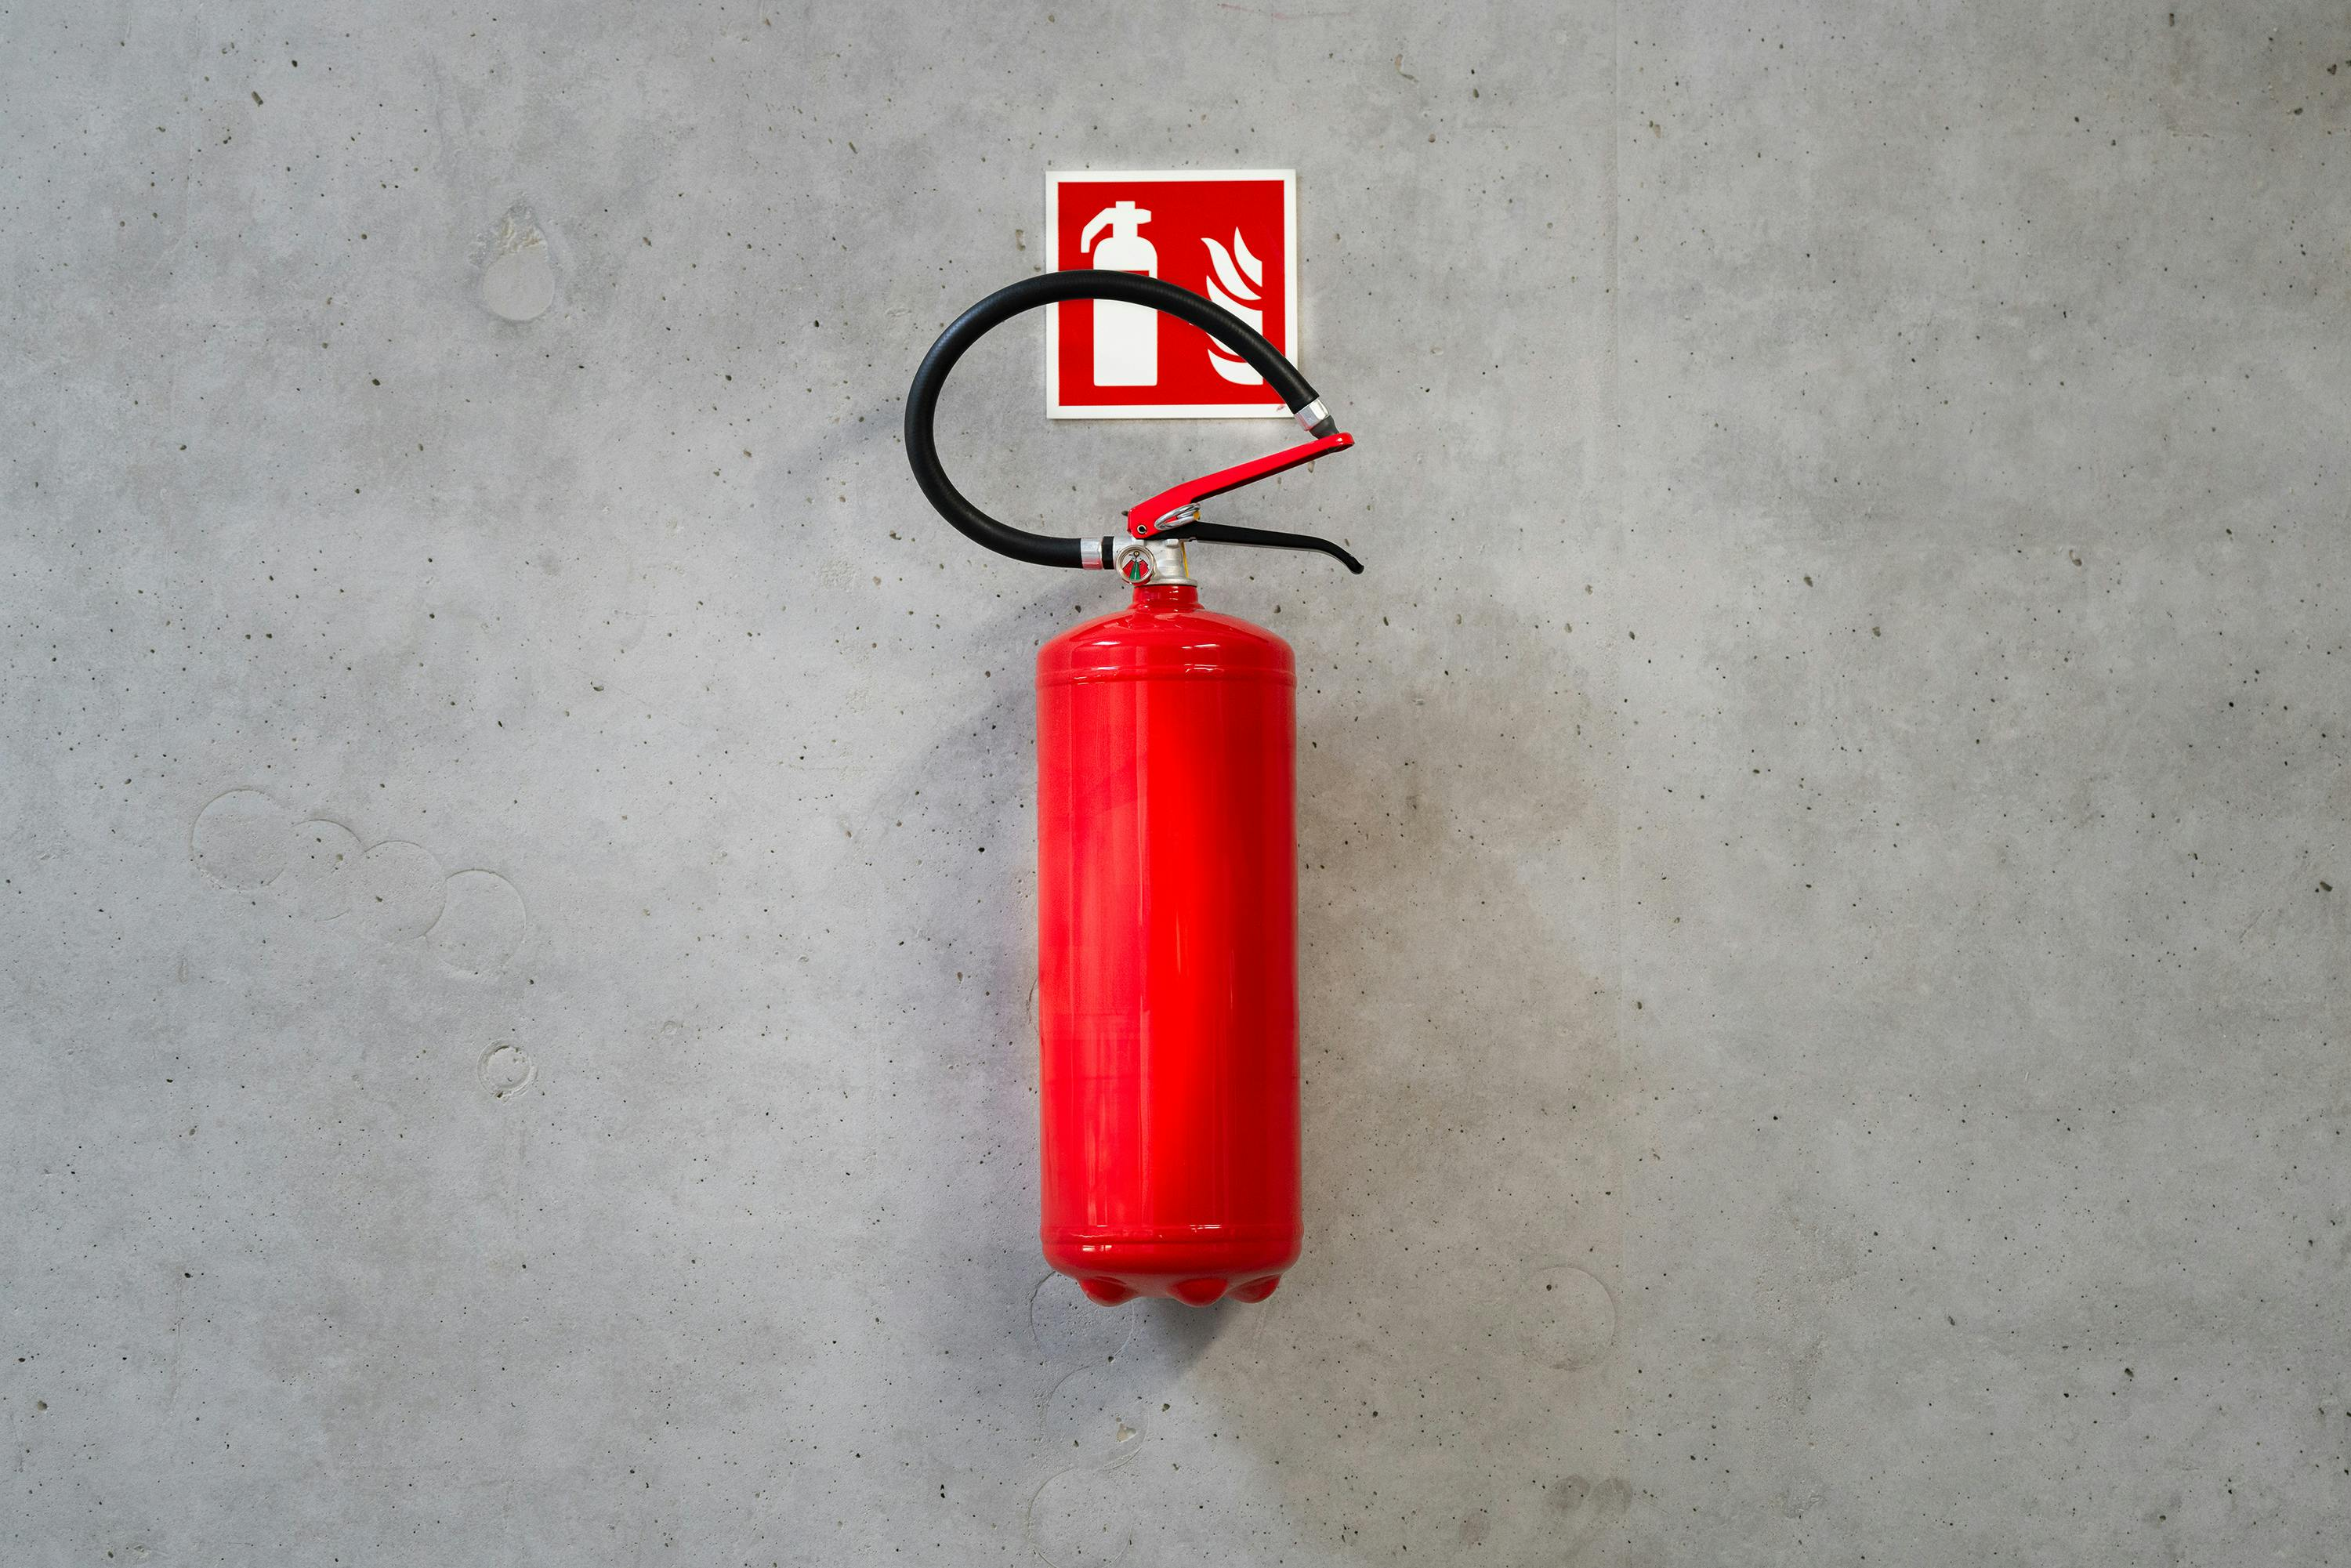extintor: (1006, 425, 1375, 1312)
